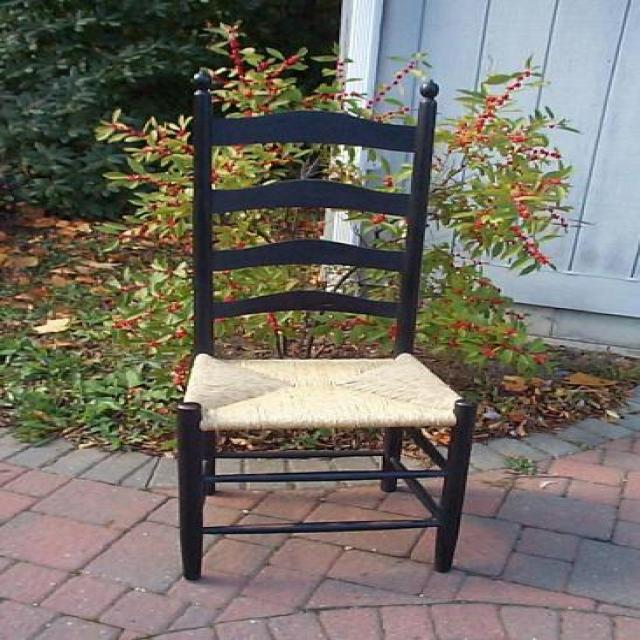chair: (176, 66, 479, 582)
